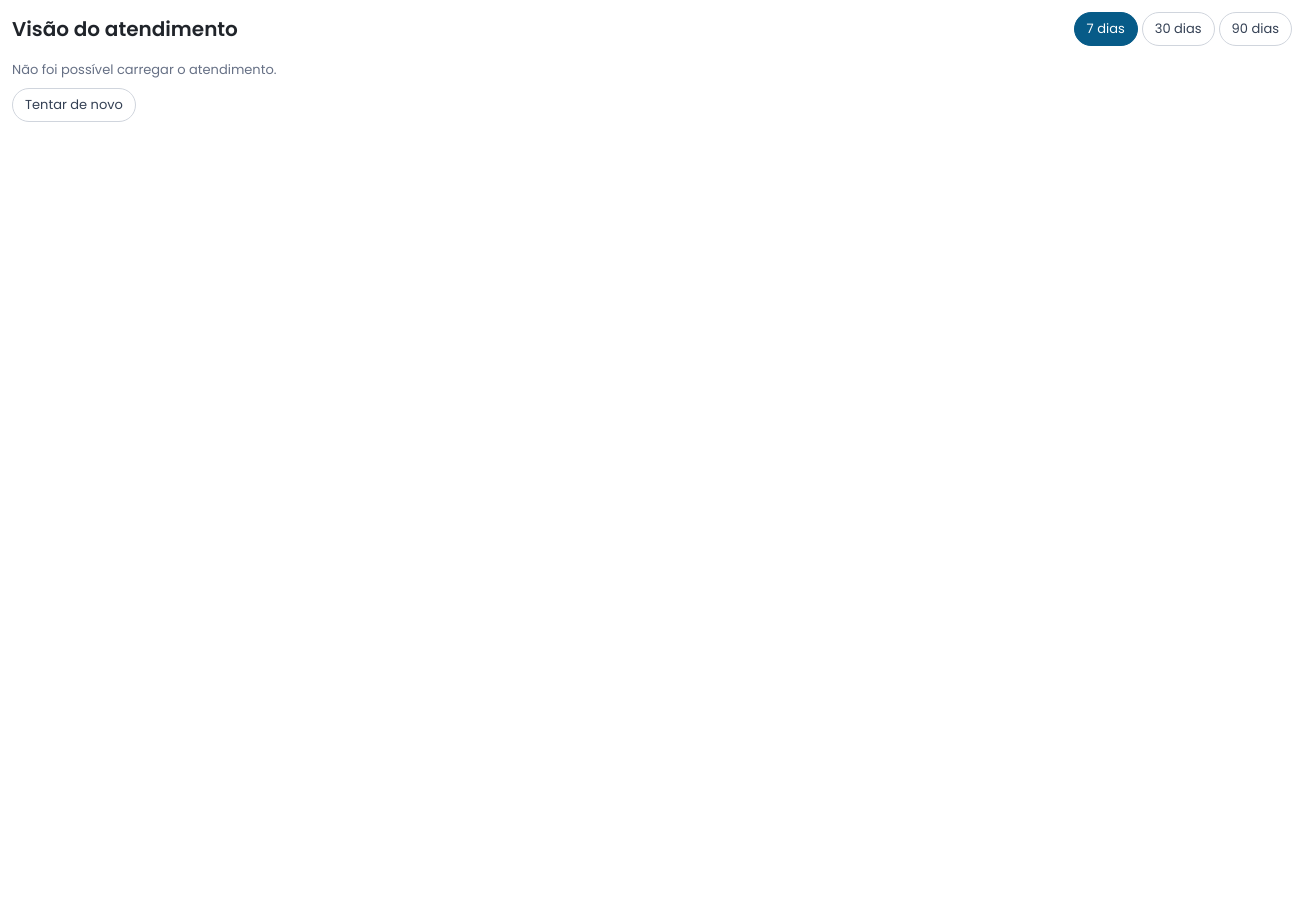
Test: OmnichannelOverviewComponent › shows an error with a retry that asks again
Click the button "Tentar de novo".
click(74, 105)  # box [12,88,136,122]
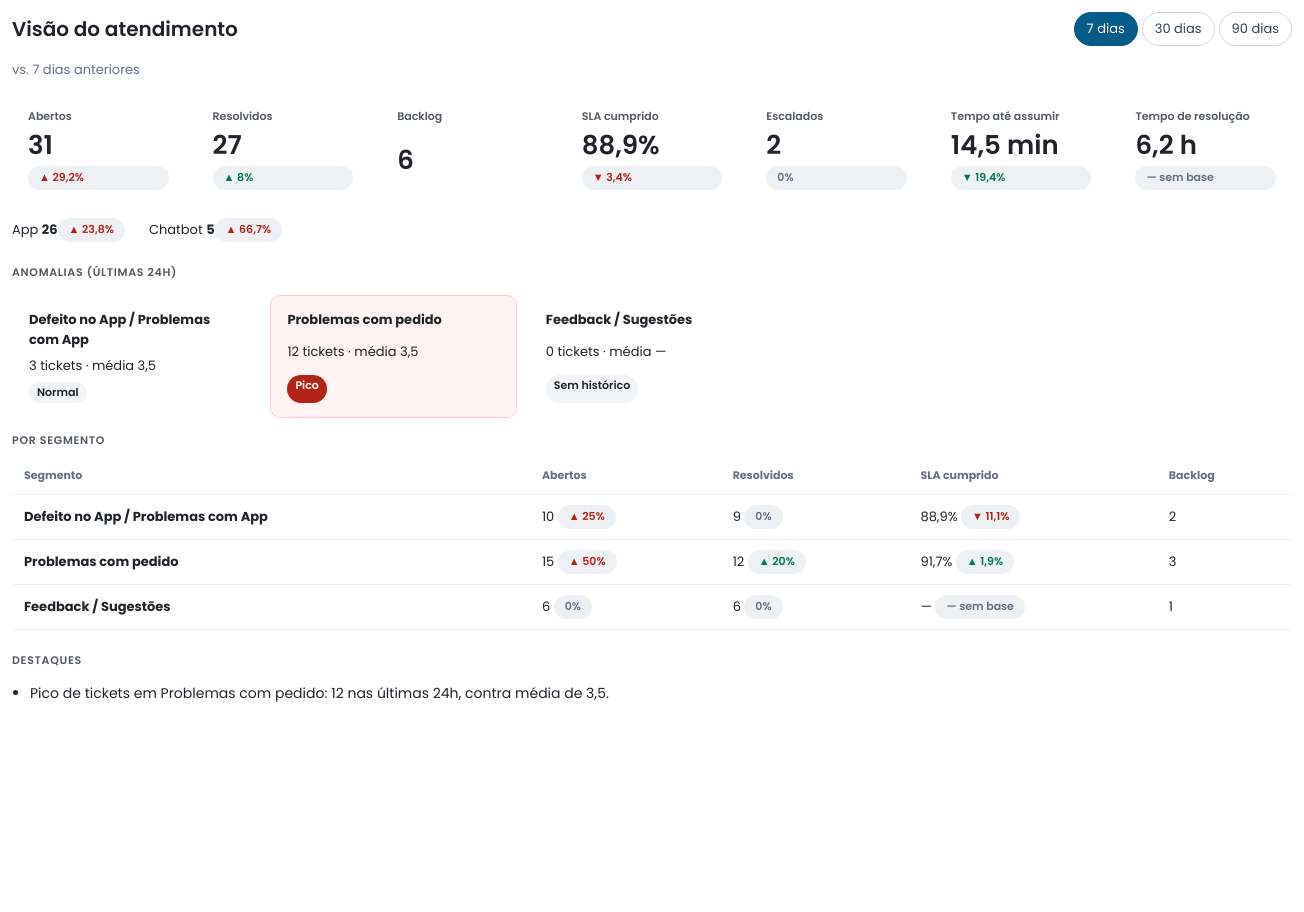
Result: the message "Não foi possível carregar o atendimento." is gone
